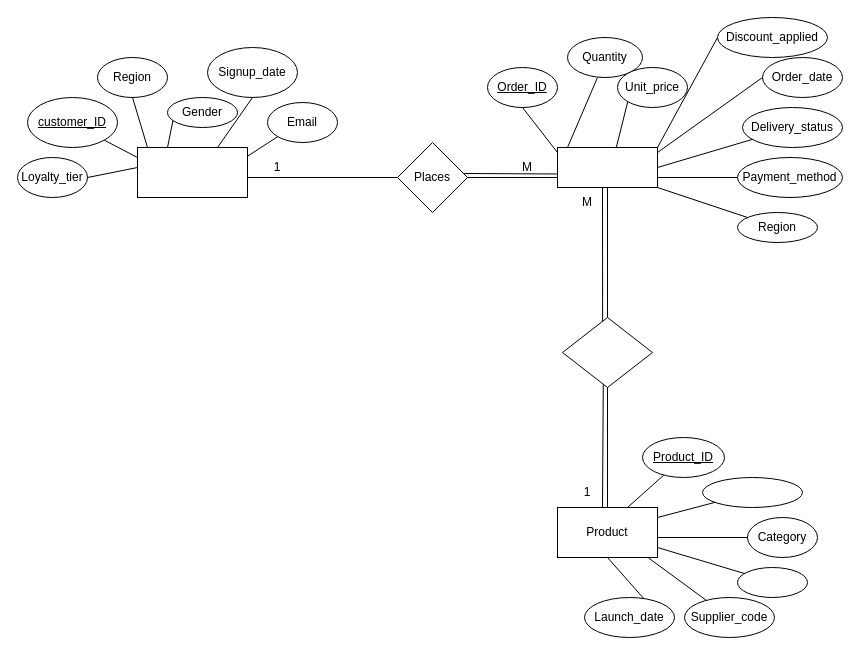
This 860x655 diagram has some shape labels left out. Each missing label, with the centre of its shape:
Base_price: the point at 772,582
Contains: the point at 607,352
Customer: the point at 192,172
Order: the point at 607,167
Product_name: the point at 752,492
